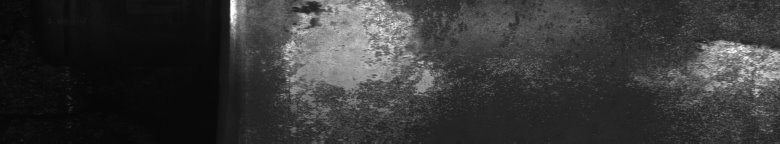kb: (263, 4, 776, 136)
